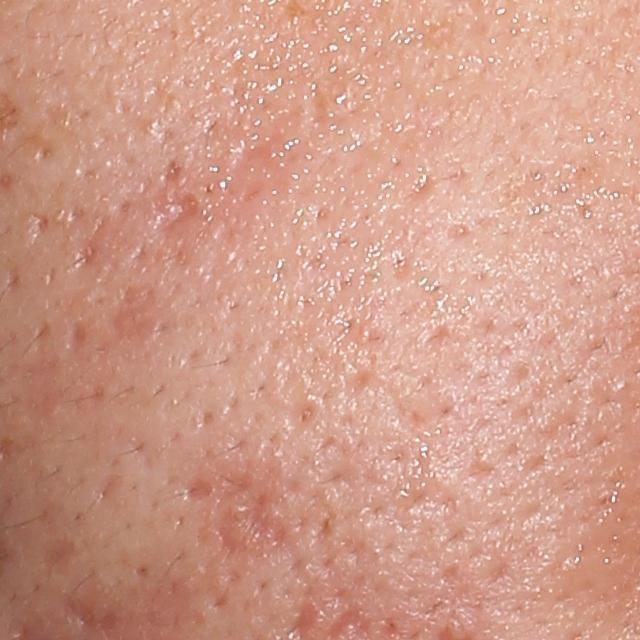atrophic_scar: (189, 460, 301, 566), (333, 365, 466, 447), (58, 192, 146, 274), (7, 318, 66, 432), (332, 222, 432, 287), (303, 54, 361, 148), (151, 156, 206, 251), (320, 291, 386, 352), (383, 165, 469, 208), (112, 281, 161, 351), (54, 594, 132, 635), (32, 536, 72, 580), (85, 472, 123, 507), (27, 212, 50, 253), (4, 256, 24, 299), (65, 316, 86, 355)
